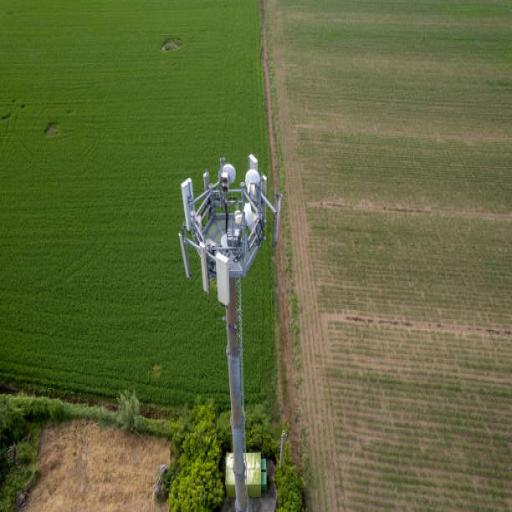monopole_tower: (177, 148, 282, 507)
